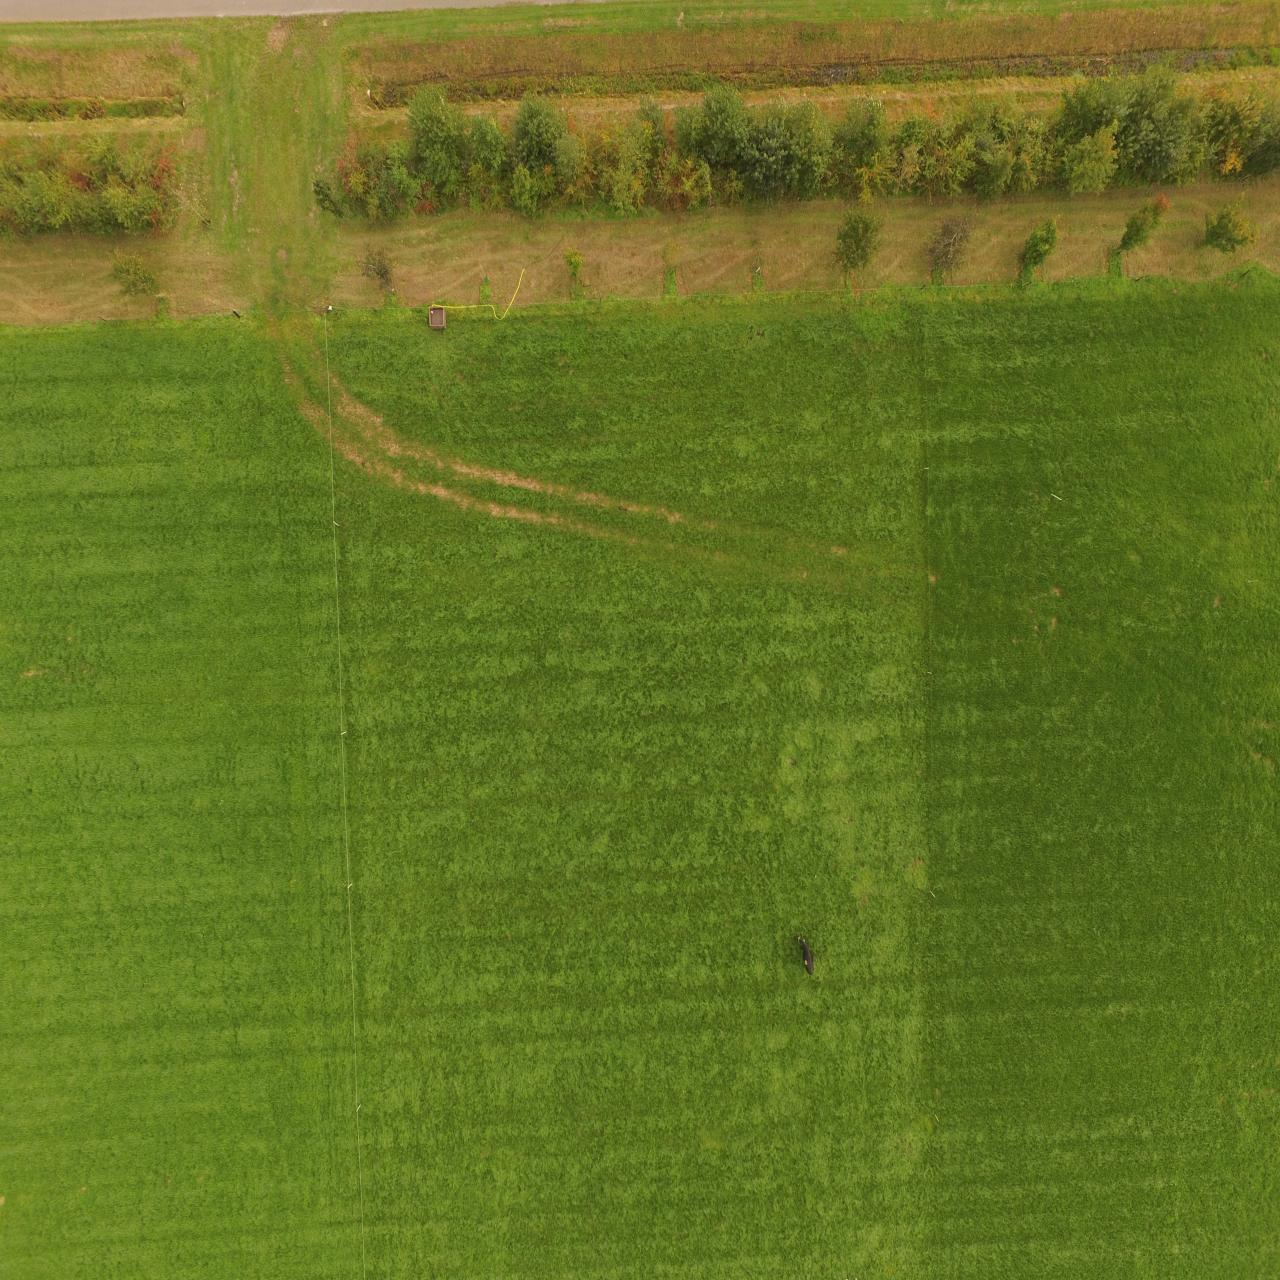cow: (794, 933, 815, 979)
